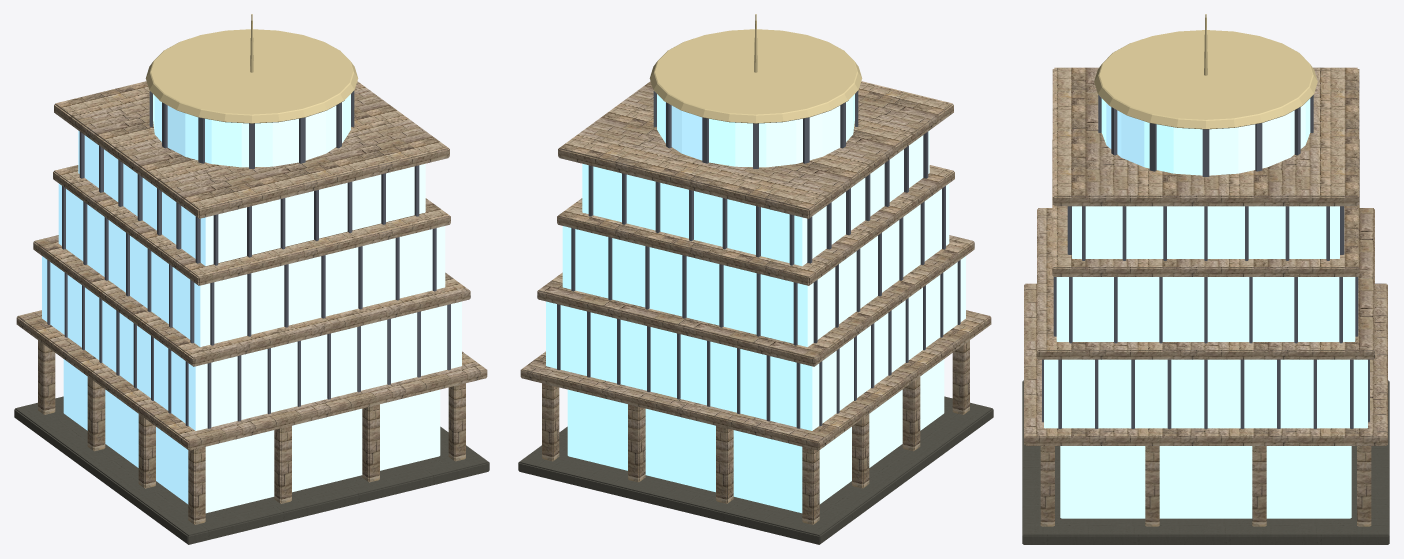
Rendered from landmark_glass_rotunda_hq.glb.
3 views of the same model, side by side, from view 1: azimuth 30°, elevation 25°; view 2: azimuth 150°, elevation 25°; view 3: azimuth 270°, elevation 25° (orthographic). The views are drawn at different scales.
Parts seen in each view (by area): view 1: GlassCore_0, GlassCore_1, CrownSlab, LobbyGlass, SkyRing, BaseDeck, GlassCore_2, Slab_0, Slab_1, Slab_2, SkyDrum, ColF_2.1_-6.2 (+6 smaller); view 2: GlassCore_0, GlassCore_1, CrownSlab, LobbyGlass, SkyRing, BaseDeck, GlassCore_2, Slab_0, Slab_1, Slab_2, SkyDrum, ColF_2.1_6.2 (+6 smaller); view 3: CrownSlab, GlassCore_0, LobbyGlass, GlassCore_1, SkyRing, BaseDeck, GlassCore_2, Slab_0, Slab_1, SkyDrum, Slab_2, ColF_6.2_6.2 (+3 smaller).
Part boxes in pixels (<box>): GlassCore_0: <box>42,256,461,430</box>; GlassCore_1: <box>58,183,445,347</box>; CrownSlab: <box>54,81,449,218</box>; LobbyGlass: <box>63,359,440,513</box>; SkyRing: <box>145,29,358,123</box>; BaseDeck: <box>14,396,489,544</box>; GlassCore_2: <box>78,130,425,266</box>; Slab_0: <box>16,310,487,450</box>; Slab_1: <box>33,235,470,366</box>; Slab_2: <box>53,165,450,285</box>; SkyDrum: <box>153,94,350,167</box>; ColF_2.1_-6.2: <box>362,404,379,482</box>; GlassCore_0: <box>546,256,965,430</box>; GlassCore_1: <box>562,183,949,347</box>; CrownSlab: <box>558,81,953,218</box>; LobbyGlass: <box>567,359,944,513</box>; SkyRing: <box>649,29,862,123</box>; BaseDeck: <box>518,396,993,544</box>; GlassCore_2: <box>582,130,929,266</box>; Slab_0: <box>520,310,991,450</box>; Slab_1: <box>537,235,974,366</box>; Slab_2: <box>557,165,954,285</box>; SkyDrum: <box>657,94,854,167</box>; ColF_2.1_6.2: <box>628,404,645,482</box>; CrownSlab: <box>1052,67,1359,206</box>; GlassCore_0: <box>1044,359,1367,428</box>; LobbyGlass: <box>1060,446,1351,518</box>; GlassCore_1: <box>1056,277,1355,341</box>; SkyRing: <box>1094,30,1317,129</box>; BaseDeck: <box>1022,380,1389,544</box>; GlassCore_2: <box>1072,206,1339,258</box>; Slab_0: <box>1024,283,1387,445</box>; Slab_1: <box>1037,208,1374,359</box>; SkyDrum: <box>1101,98,1310,175</box>; Slab_2: <box>1052,139,1359,276</box>; ColF_6.2_6.2: <box>1357,446,1371,526</box>.
Size of the model in its own units: 14.4 by 19.6 by 14.4.
Materials: 6 (3 with a texture image).
